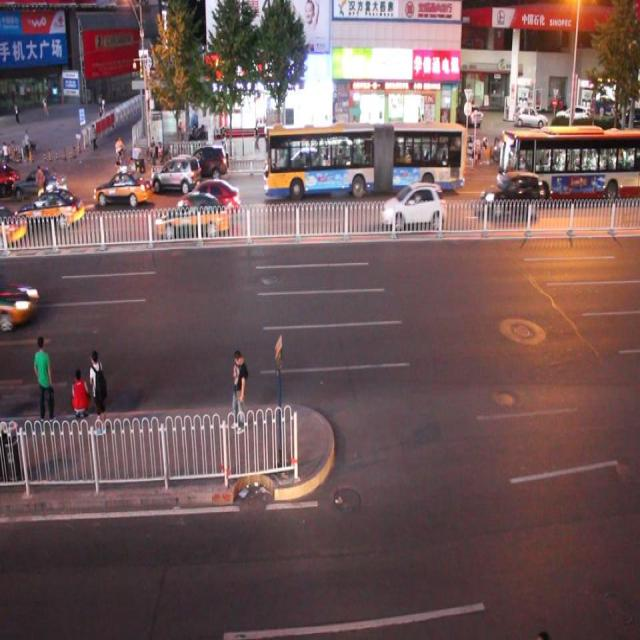car: (156, 194, 228, 236), (382, 182, 444, 228), (19, 187, 84, 228), (482, 172, 542, 216), (178, 178, 238, 215), (94, 168, 152, 205), (1, 272, 38, 330), (12, 166, 67, 201), (151, 154, 200, 193), (184, 143, 229, 181), (280, 148, 328, 180), (1, 159, 19, 194)
van: (262, 123, 463, 196), (496, 125, 640, 202)
